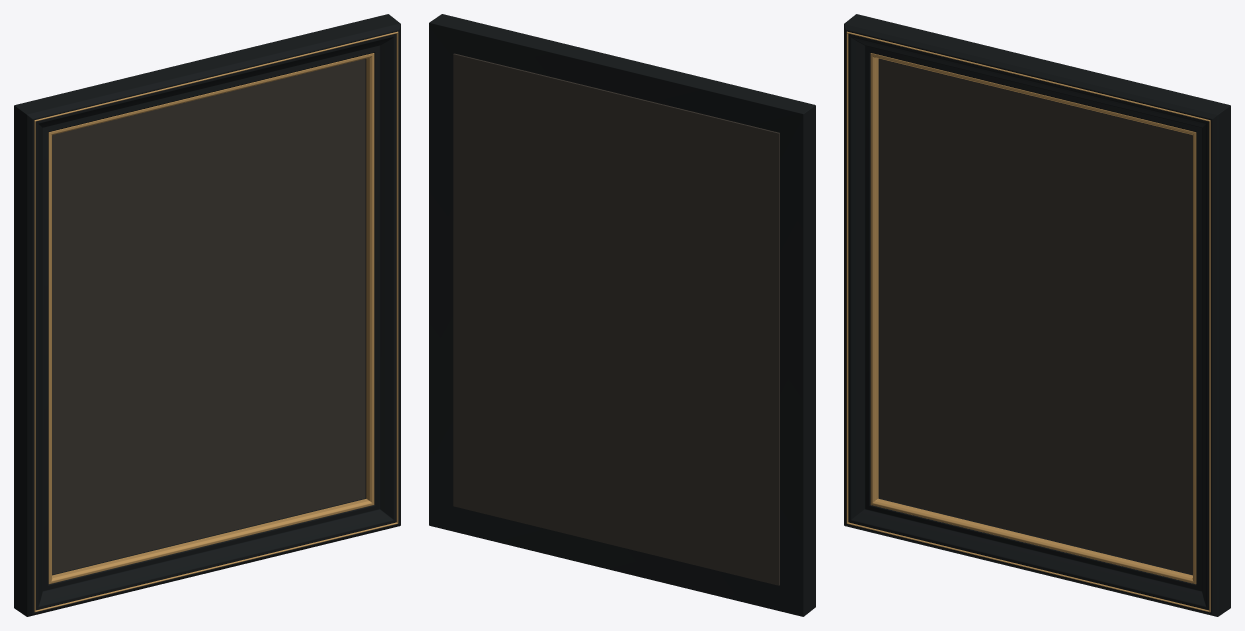
Rendered from romantic-frame-only.glb.
3 views of the same model, side by side, from view 1: azimuth 30°, elevation 25°; view 2: azimuth 150°, elevation 25°; view 3: azimuth 330°, elevation 25° (orthographic).
Parts seen in each view (by area): view 1: Rigid backing panel, Ebonized classical molding, Antique gold inner lip, Fine gold outer bead; view 2: Rigid backing panel, Ebonized classical molding; view 3: Rigid backing panel, Ebonized classical molding, Antique gold inner lip, Fine gold outer bead.
Boxes of the visible parts, box(x1,y1,x2,y2) form: Rigid backing panel: box(52, 58, 365, 574); Ebonized classical molding: box(14, 14, 400, 616); Antique gold inner lip: box(48, 53, 374, 584); Fine gold outer bead: box(34, 31, 398, 612); Rigid backing panel: box(453, 53, 779, 585); Ebonized classical molding: box(429, 14, 815, 616); Rigid backing panel: box(879, 58, 1192, 574); Ebonized classical molding: box(844, 14, 1230, 616); Antique gold inner lip: box(870, 53, 1196, 584); Fine gold outer bead: box(846, 31, 1210, 612).
Bounding box in the file's own units: 1.06 × 1.36 × 0.0762.
